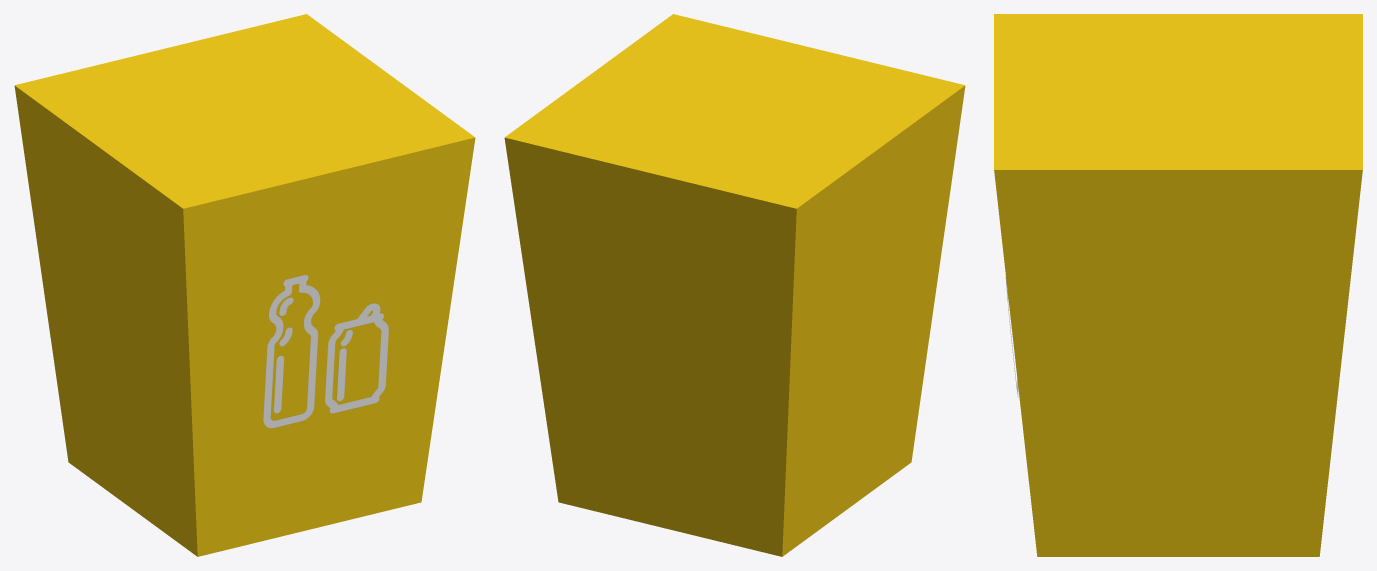
The model's file is MetalTrash.glb.
3 views of the same model, side by side, from view 1: azimuth 30°, elevation 25°; view 2: azimuth 150°, elevation 25°; view 3: azimuth 270°, elevation 25° (orthographic). The views are drawn at different scales.
Parts seen in each view (by area): view 1: MetalTrash, metal; view 2: MetalTrash; view 3: MetalTrash.
Part boxes in pixels (x1=…): MetalTrash: x1=14, y1=14, x2=475, y2=556; metal: x1=263, y1=274, x2=388, y2=428; MetalTrash: x1=504, y1=14, x2=965, y2=556; MetalTrash: x1=994, y1=14, x2=1362, y2=556.
Size of the model in its own units: 0.4117 by 0.4993 by 0.4117.
Materials: 2 (1 with a texture image).
